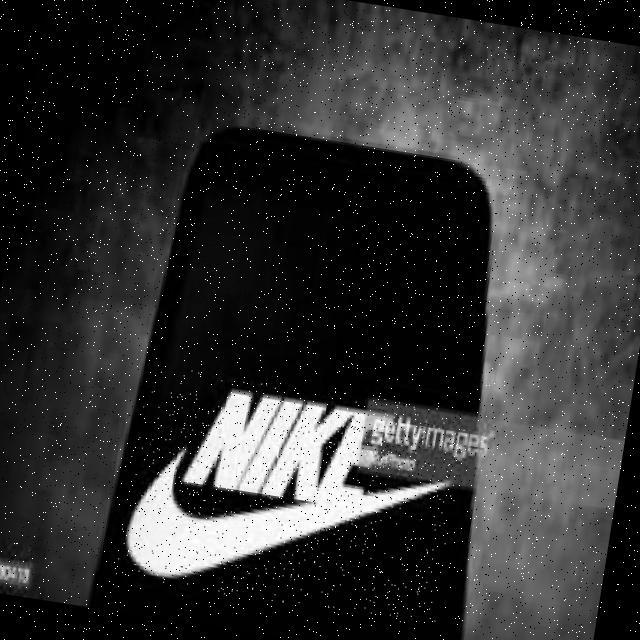Nike: (113, 362, 469, 628)
